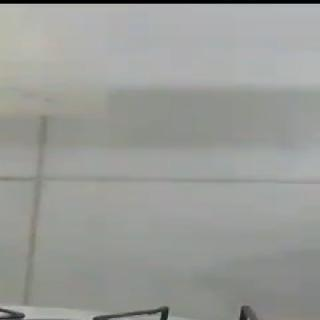fire: (0, 213, 72, 320)
